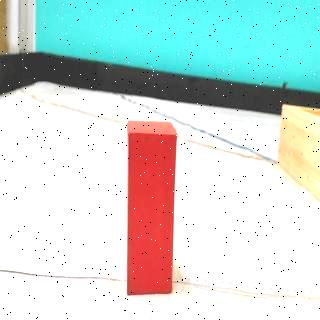redbox: (126, 119, 178, 293)
